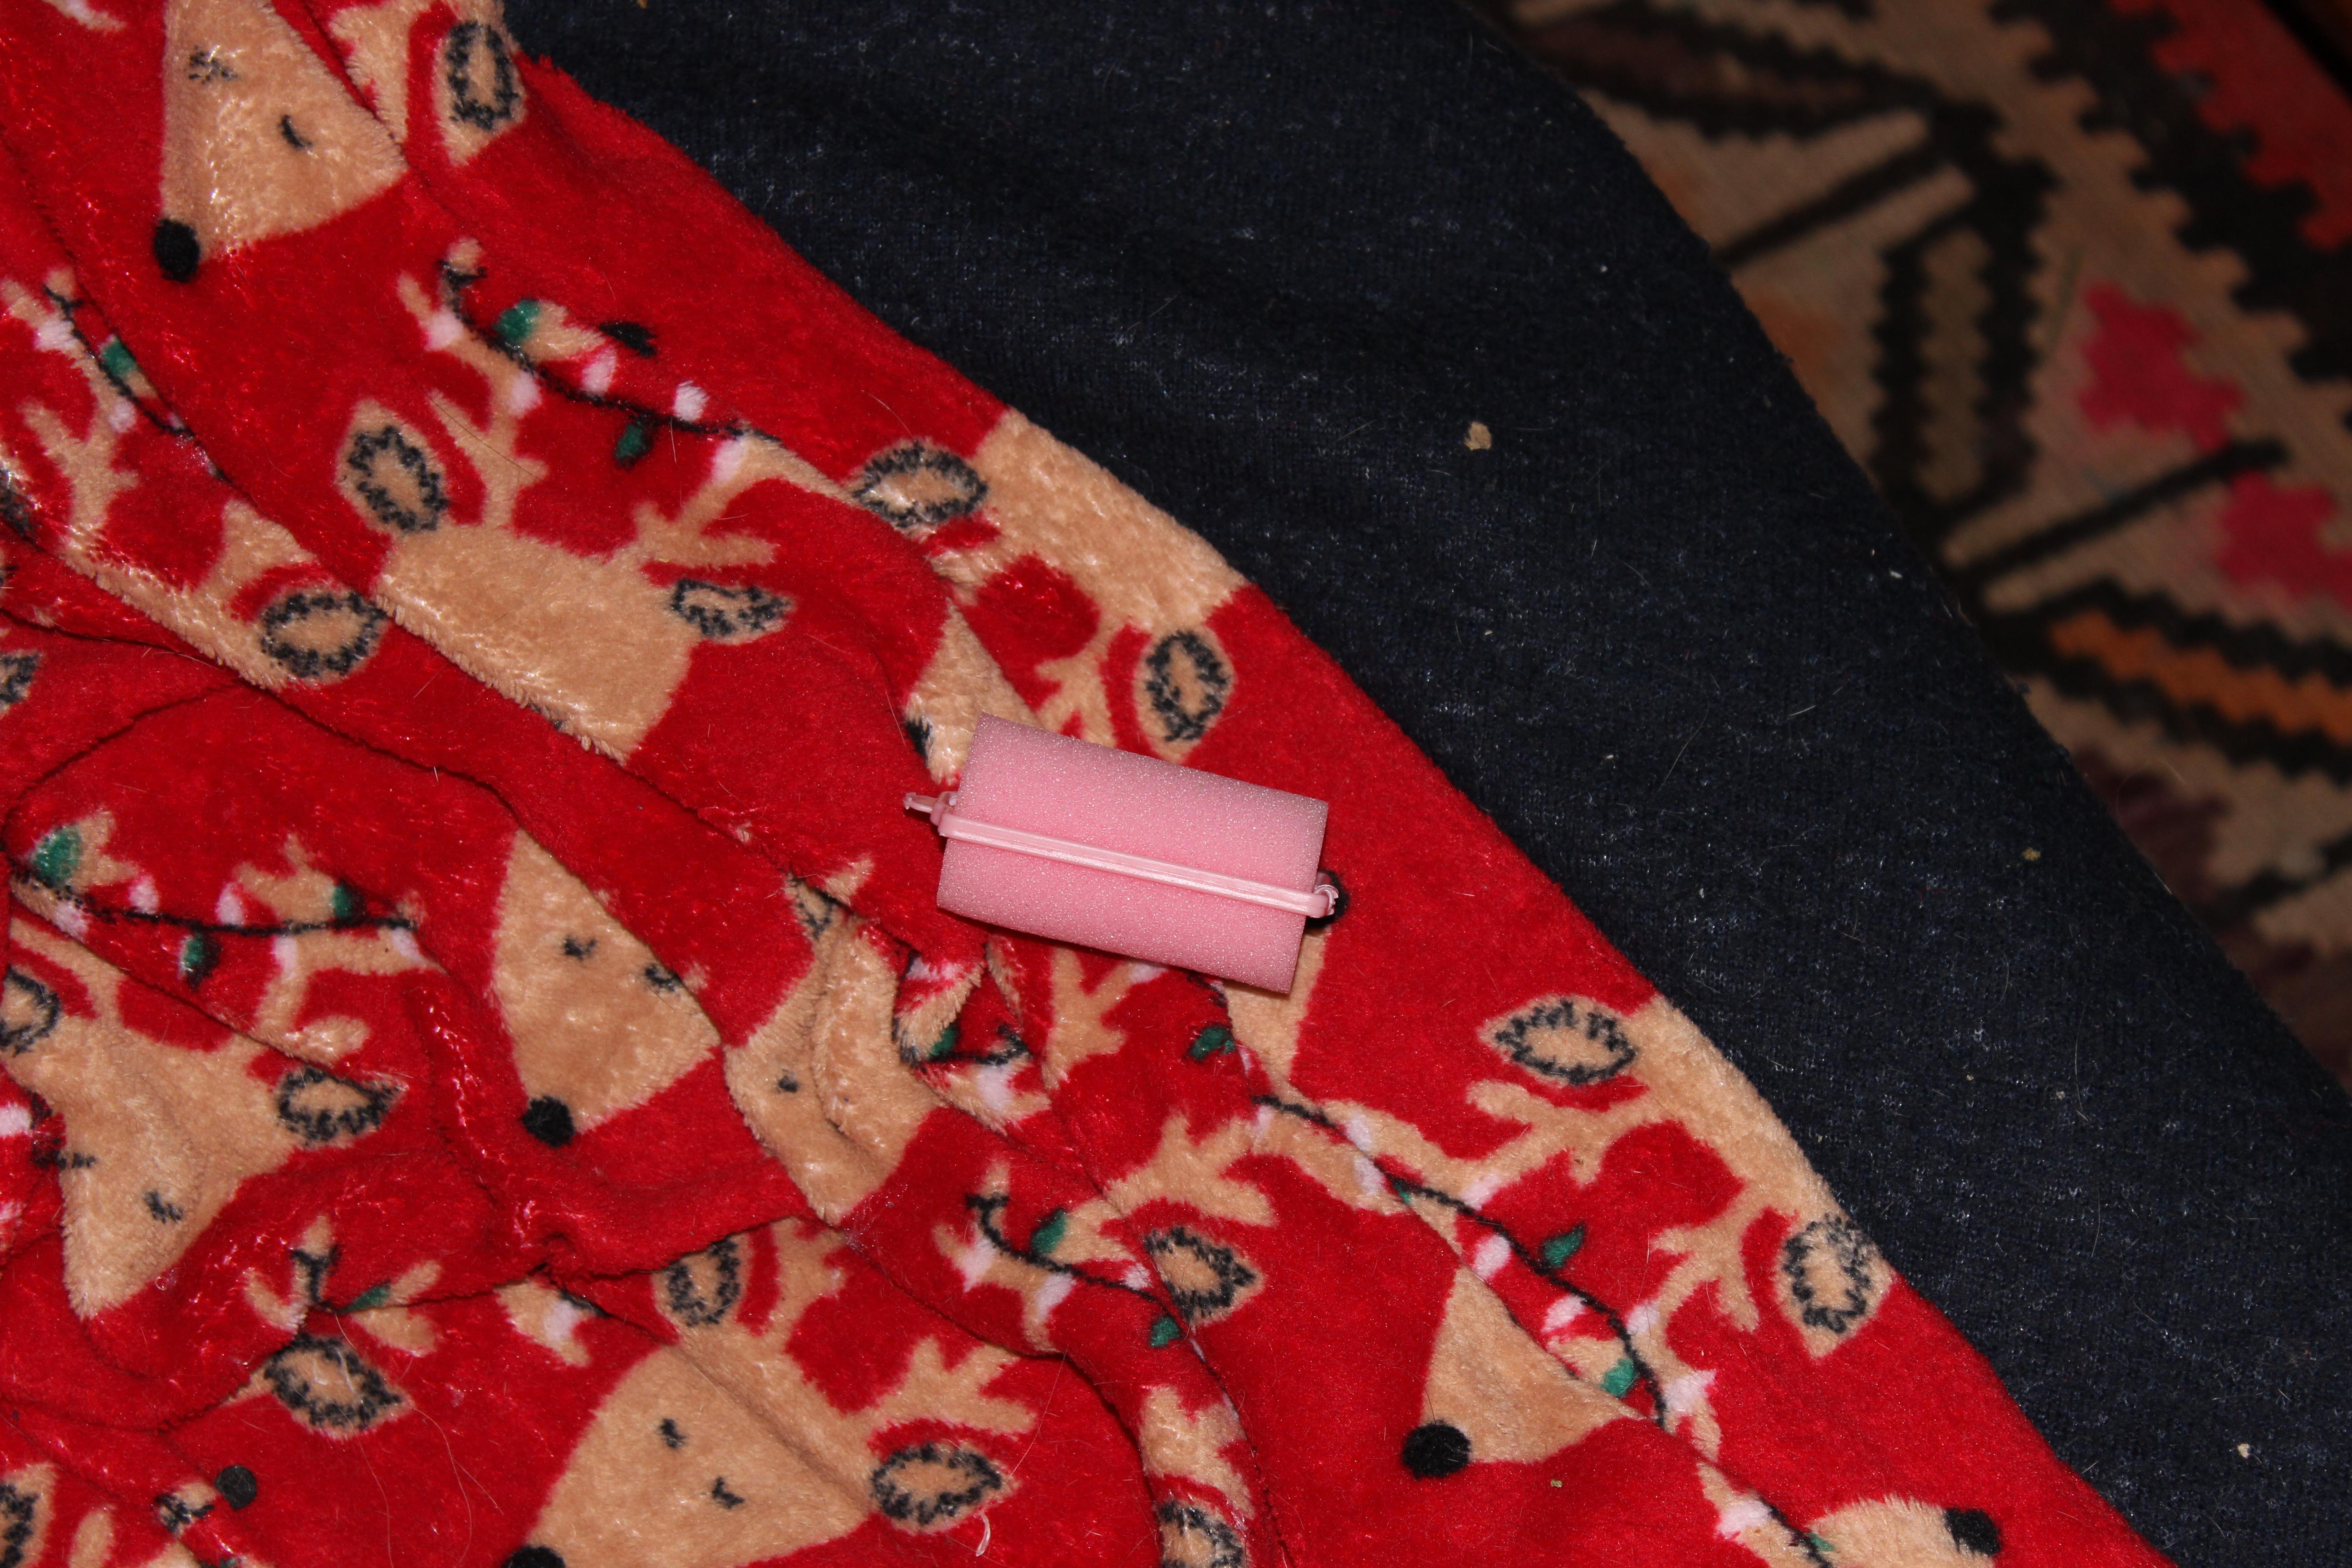hairRoller: (889, 681, 1377, 1020)
